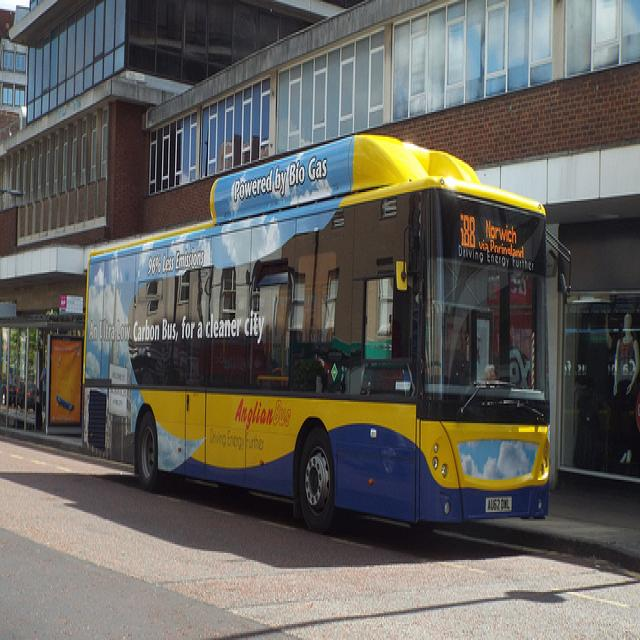Vehicle: (88, 132, 552, 530), (17, 380, 40, 413), (2, 375, 20, 406)
